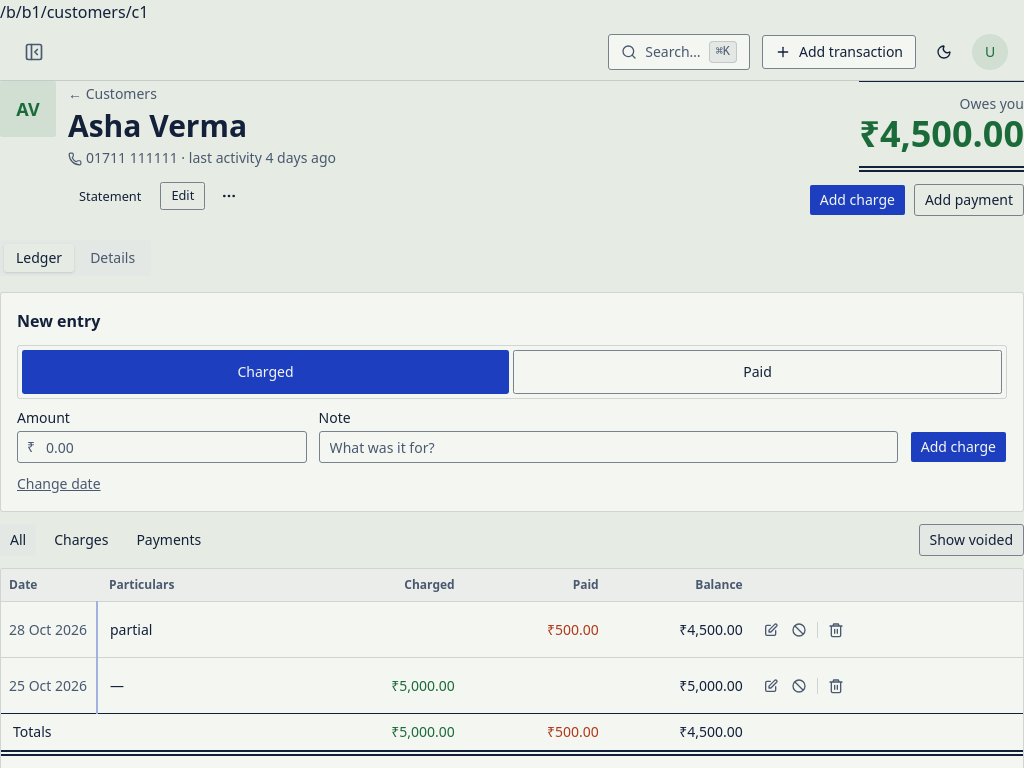
Test: S-33 edit transaction › edits in the same sheet: prefilled row values, honest preview, recalculated balance, Edited badge
Expected: the tab "Ledger" is shown, [4, 244, 74, 272]
Click the button named "Edit payment of ₹500.00": click(771, 630) [759, 618, 783, 642]
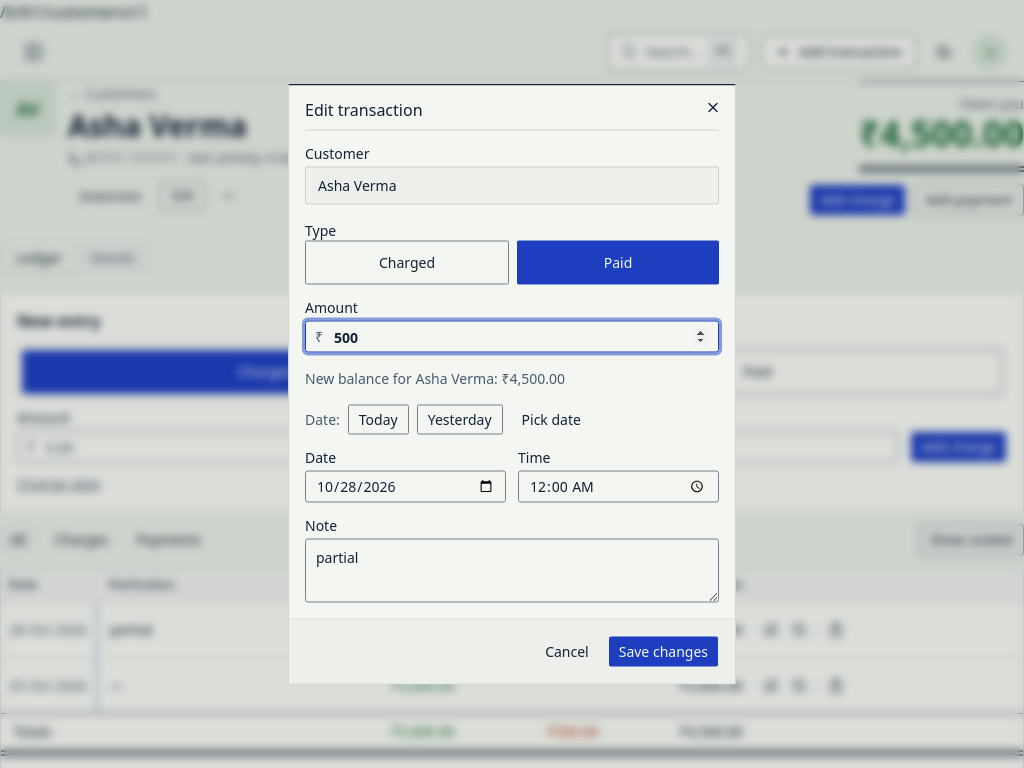
Result: the heading "Edit transaction" is shown at [305, 98, 422, 120]
Result: the number field labelled "Amount" holds "500"
Result: the time field labelled "Time" holds "00:00" at [518, 470, 719, 502]
Clear the number field labelled "Amount": (512, 336) [305, 320, 719, 352]
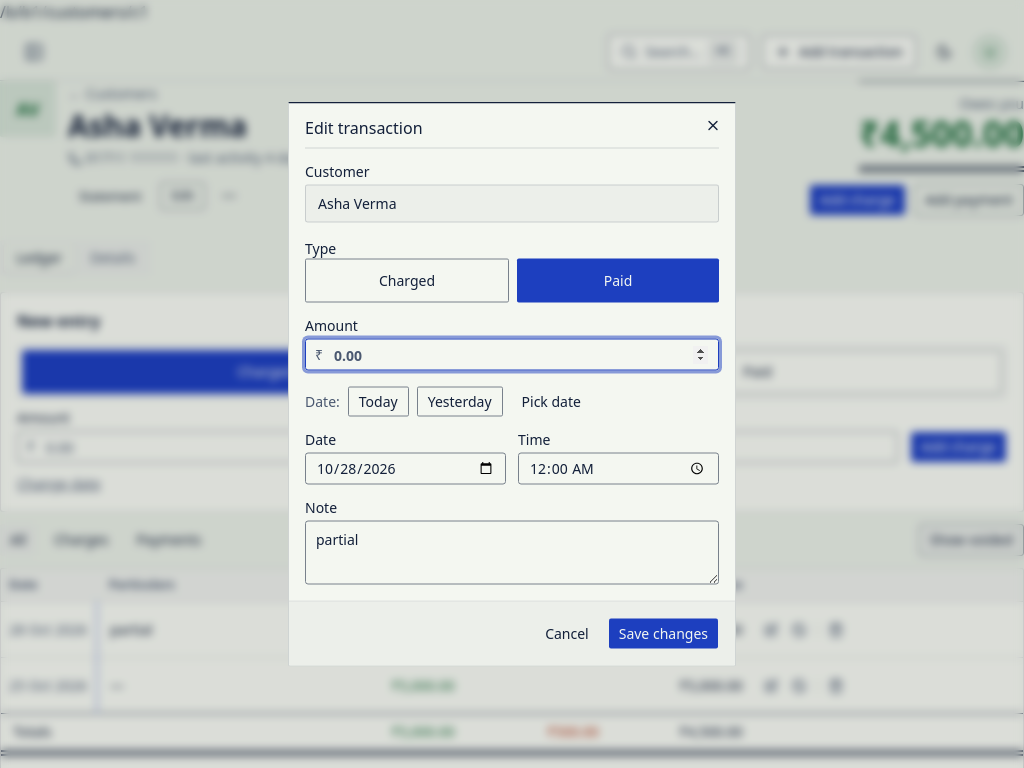
In the number field labelled "Amount": (512, 354) [305, 338, 719, 370], type "450"
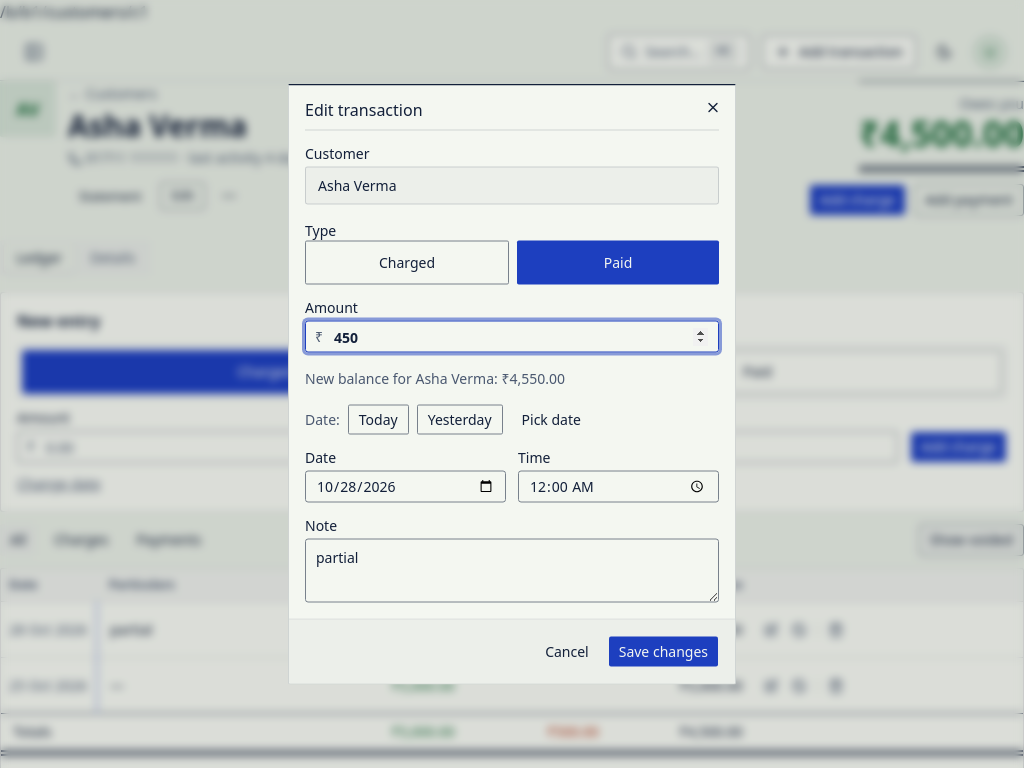
Result: the text "New balance for Asha Verma: ₹4,550.00" is shown at [305, 368, 565, 388]
Click the button "Save changes": click(663, 652) [608, 636, 719, 668]
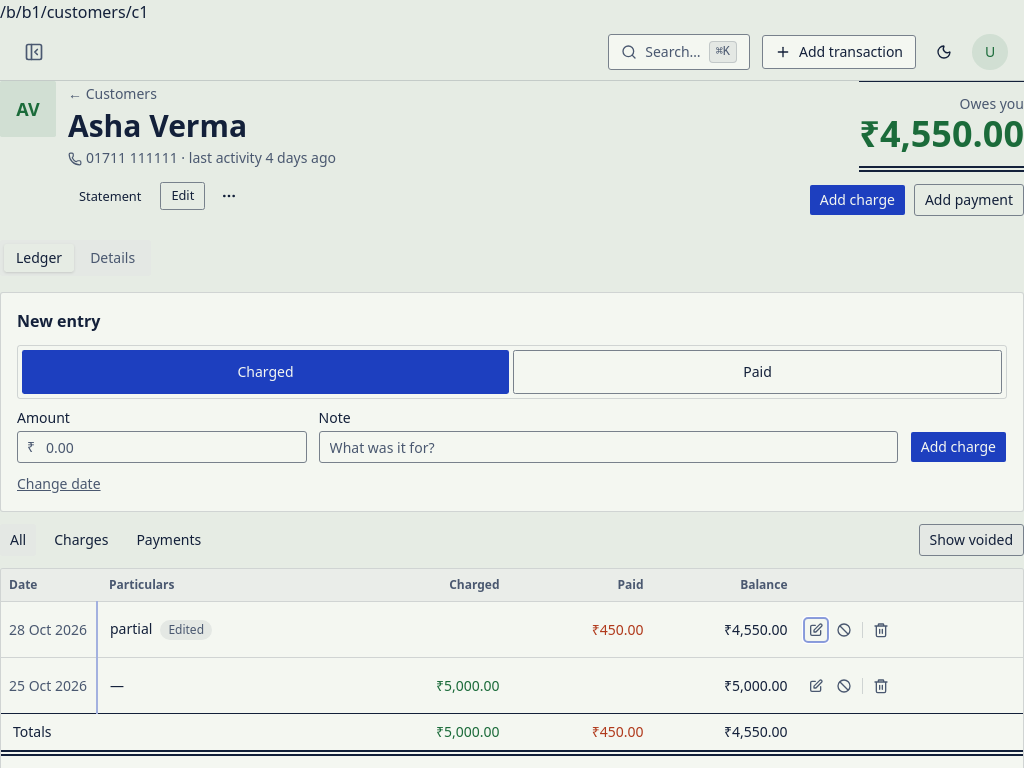
Result: the dialog is gone
Result: the text "Edited" is shown at [160, 620, 212, 640]
